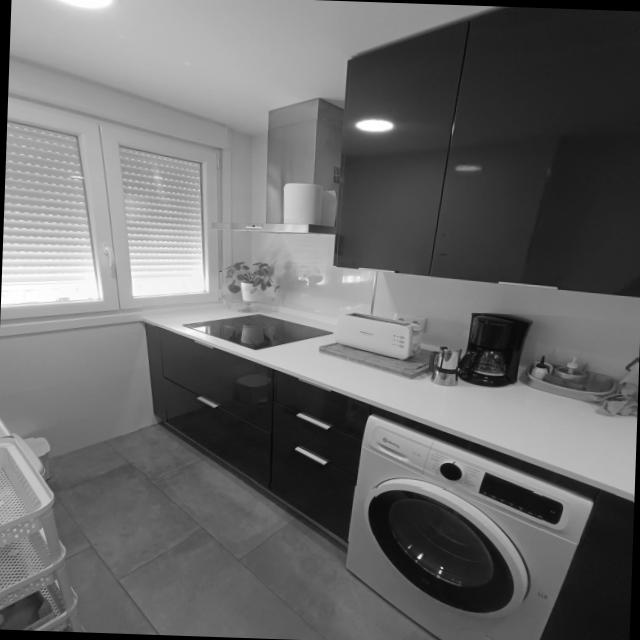cabinet: (333, 6, 640, 298), (144, 325, 378, 541), (541, 491, 633, 640)
countertop: (143, 304, 637, 495)
sofa: (182, 314, 333, 351)
